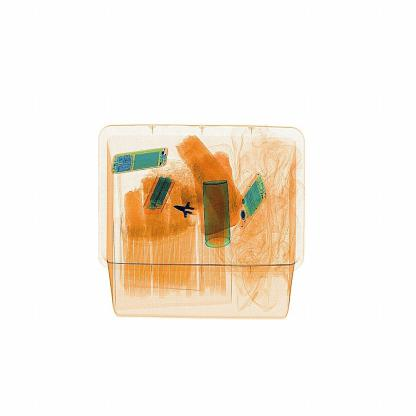gun: (167, 193, 207, 235)
